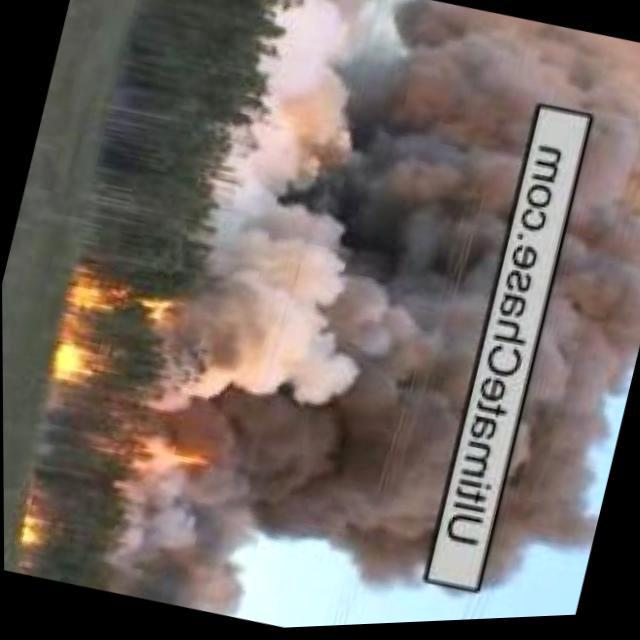fire: (46, 262, 190, 406), (116, 424, 230, 488), (16, 502, 70, 548)
